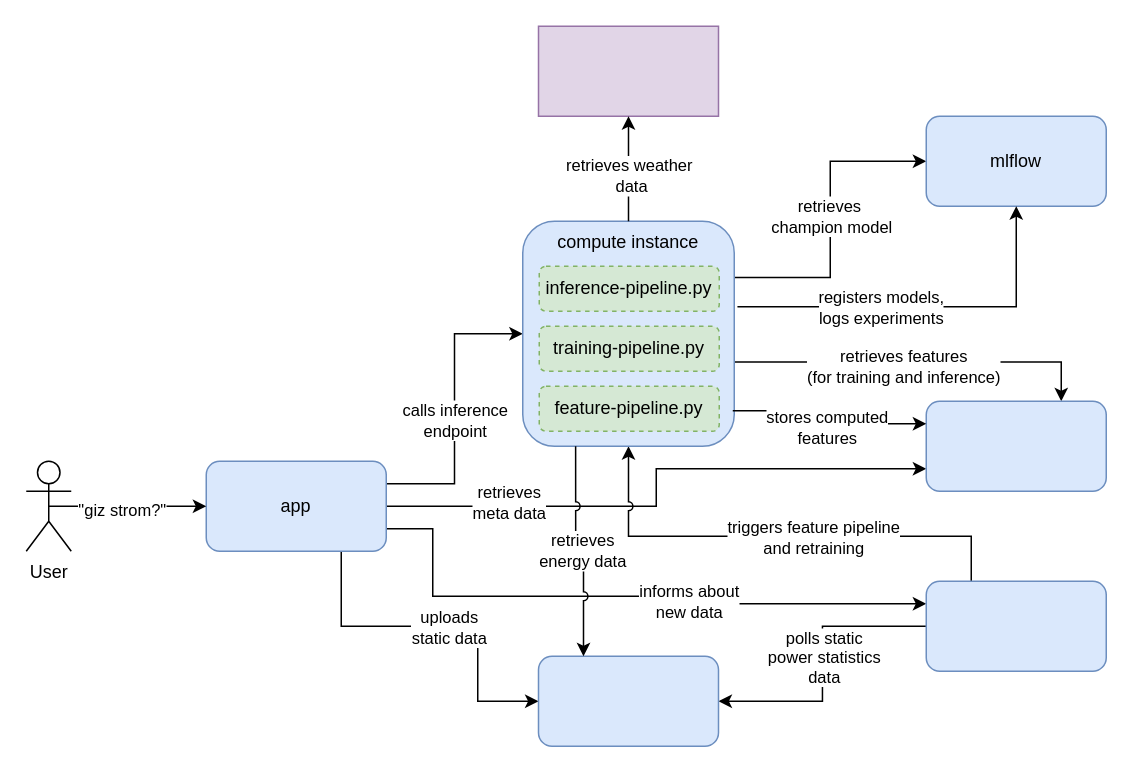
Image size: 1133x773. Some labels were removed from this diagram. The box of each missing label's shape, as (x1, y1, x2, y2) in pixels:
airflow: (925, 580, 1106, 671)
feast: (925, 400, 1106, 491)
rustfs (s3): (537, 655, 718, 746)
weather api: (537, 25, 718, 116)
